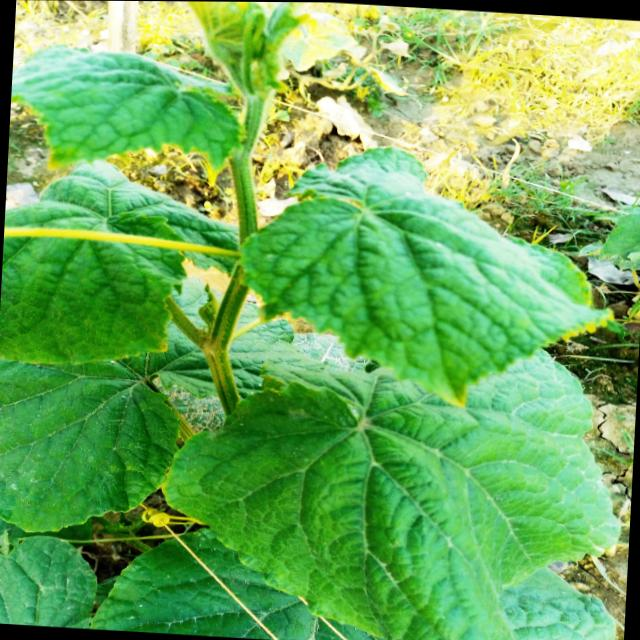Fresh-Leaf: (242, 146, 611, 403), (11, 43, 245, 192)
